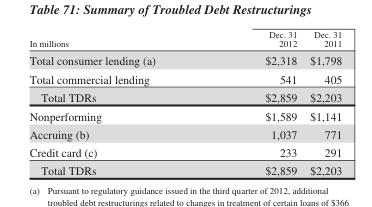table: (28, 29, 341, 176)
table column: (28, 29, 209, 176), (209, 29, 302, 176), (302, 29, 341, 176)
table column header: (28, 29, 341, 51)
table row: (28, 29, 341, 51), (28, 87, 341, 106), (28, 51, 341, 69), (28, 69, 341, 87), (28, 106, 341, 124), (28, 124, 341, 142), (28, 142, 341, 160), (28, 160, 341, 176)
